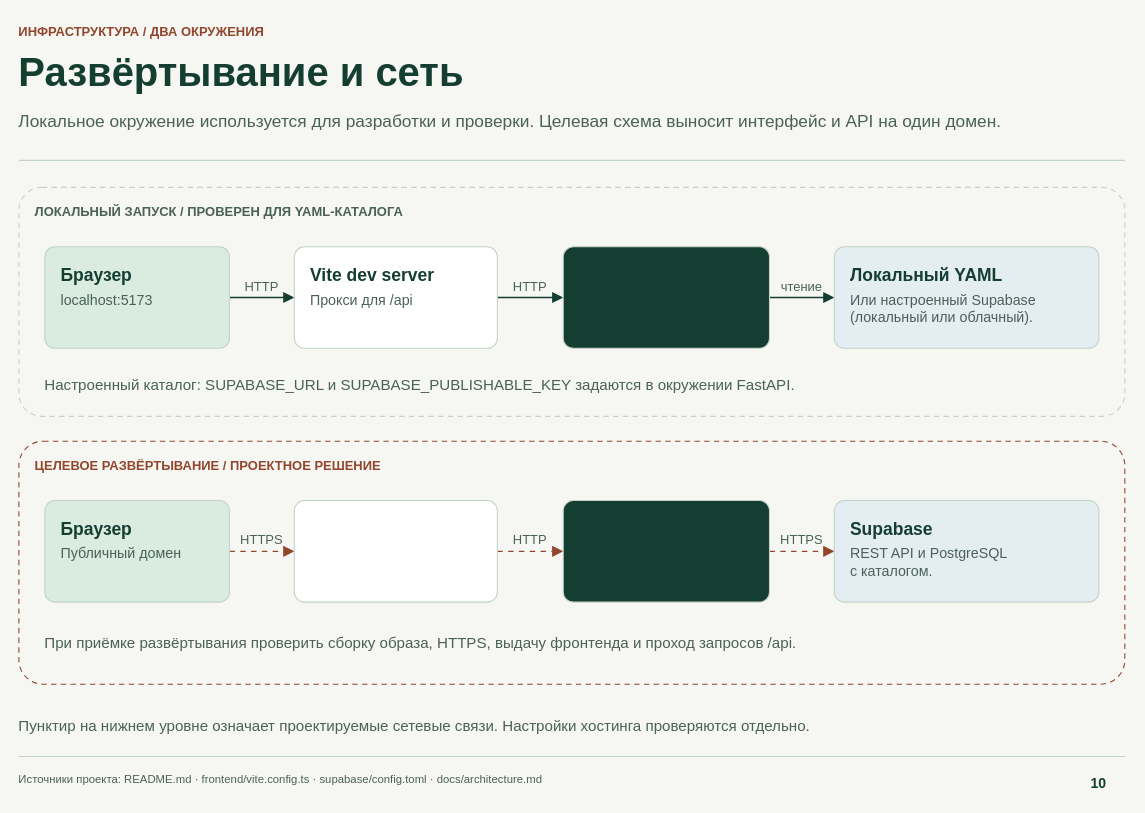
Some shapes in this 1145 by 813 pixel diagram are drawn without their labels. Each missing label, with the centre of its shape:
"Caddy Вход по HTTPS" belongs at (395,551).
"Uvicorn / FastAPI 127.0.0.1:8000" belongs at (666,297).
"Приложение Docker API + собранный UI в одном образе." belongs at (666,551).
